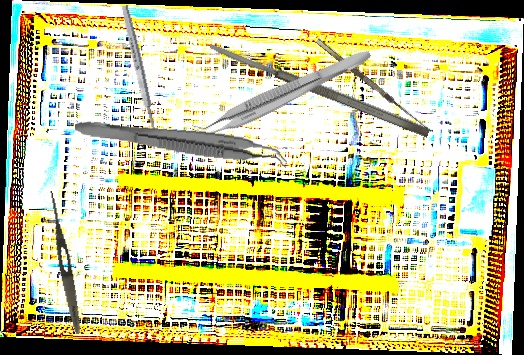Dressing Forceps: (44, 190, 85, 335)
Hook Surgical: (315, 32, 434, 132)
Spatula Surgical: (208, 39, 431, 140)
Surgical Spoon: (119, 4, 163, 150)
Tissue Forceps: (191, 38, 374, 147), (73, 117, 289, 170)
